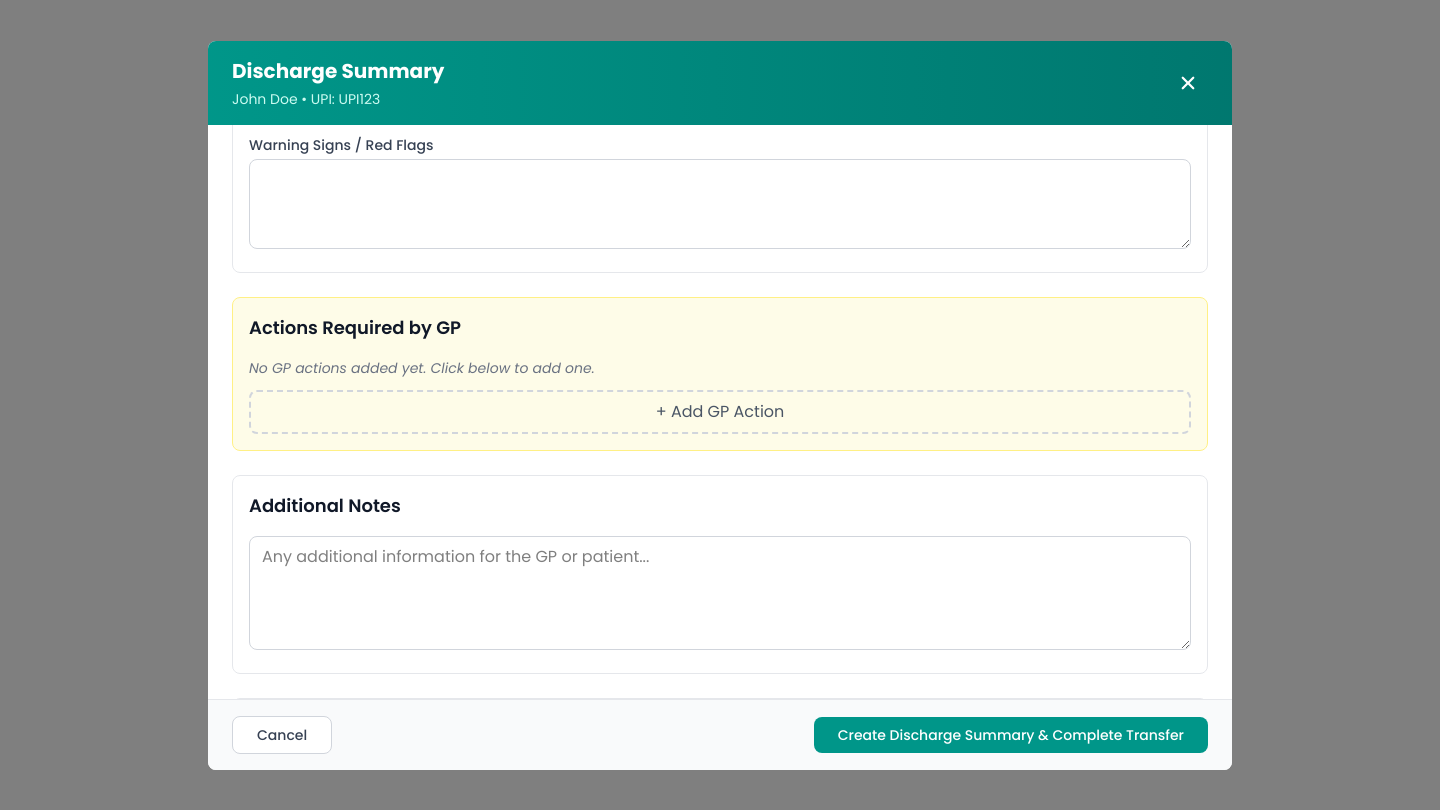
Test: DischargeSummaryModal › GP Actions Management › should add new GP action when add button is clicked
This screenshot has width=1440, height=810.
(page scrolled)
What coordinates should you click on to do the following:
click the button "+ Add GP Action"
I would click on:
 (720, 412)
Its box is left=249, top=390, right=1191, bottom=434.
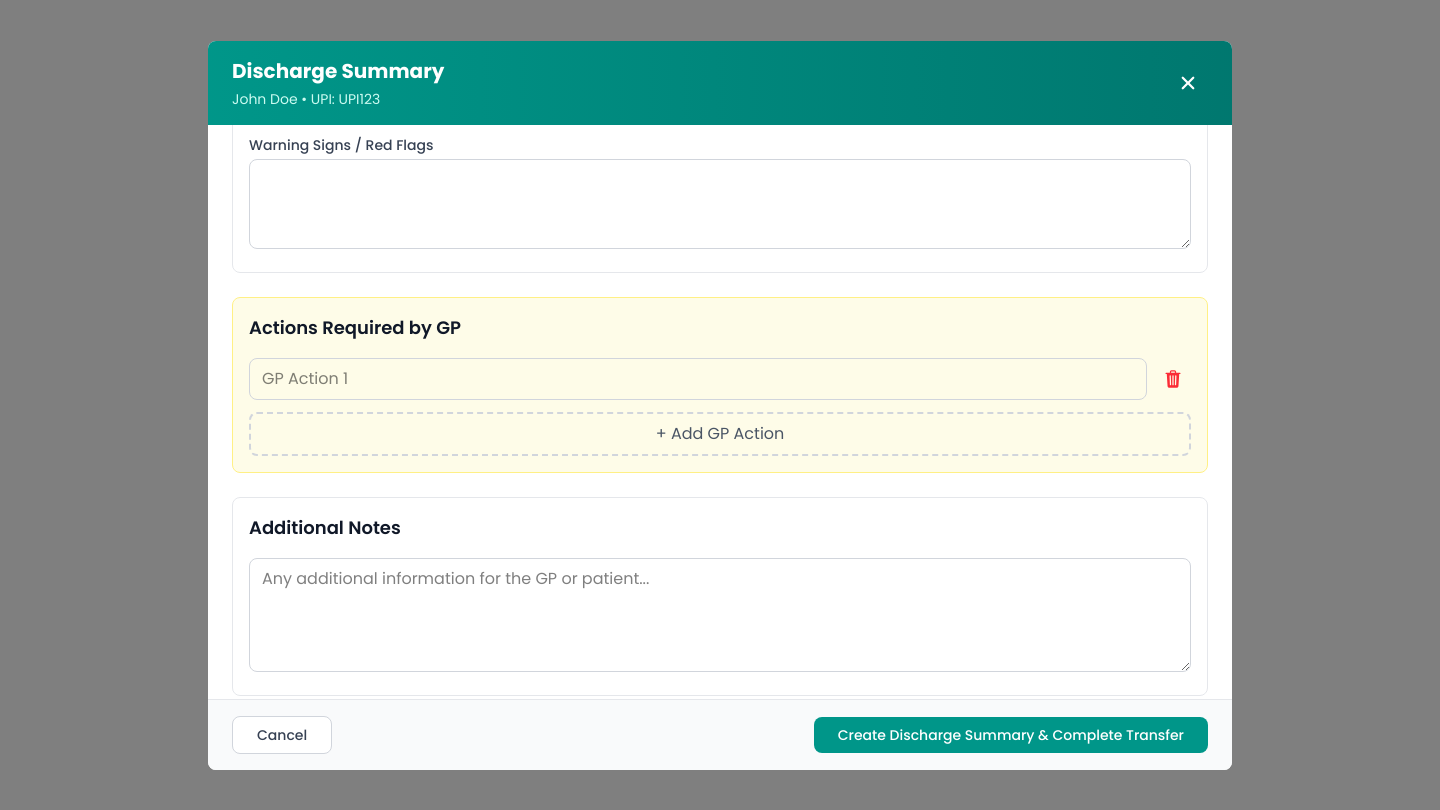
Check: the field with placeholder "GP Action 1" is shown, box left=249, top=358, right=1147, bottom=400
